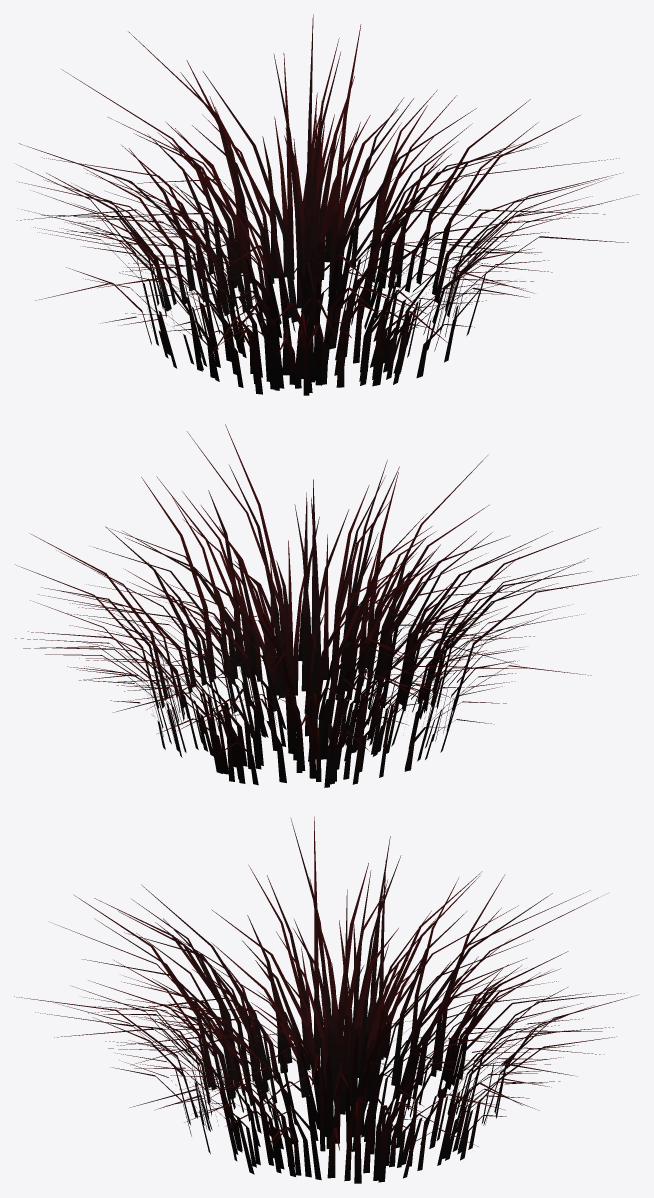
Rendered from shade_grass_v1.fbx.
3 views of the same model, one above another, from view 1: azimuth 30°, elevation 25°; view 2: azimuth 150°, elevation 25°; view 3: azimuth 270°, elevation 25° (orthographic). The views are drawn at different scales.
Visible parts, largest first — view 1: shade_grass_v1; view 2: shade_grass_v1; view 3: shade_grass_v1.
Boxes of the visible parts, bbox=[...] form: shade_grass_v1: bbox=[16, 14, 637, 395]; shade_grass_v1: bbox=[15, 424, 638, 787]; shade_grass_v1: bbox=[14, 816, 638, 1183].
Bounding box in the file's own units: 81.45 × 29.24 × 80.26.
